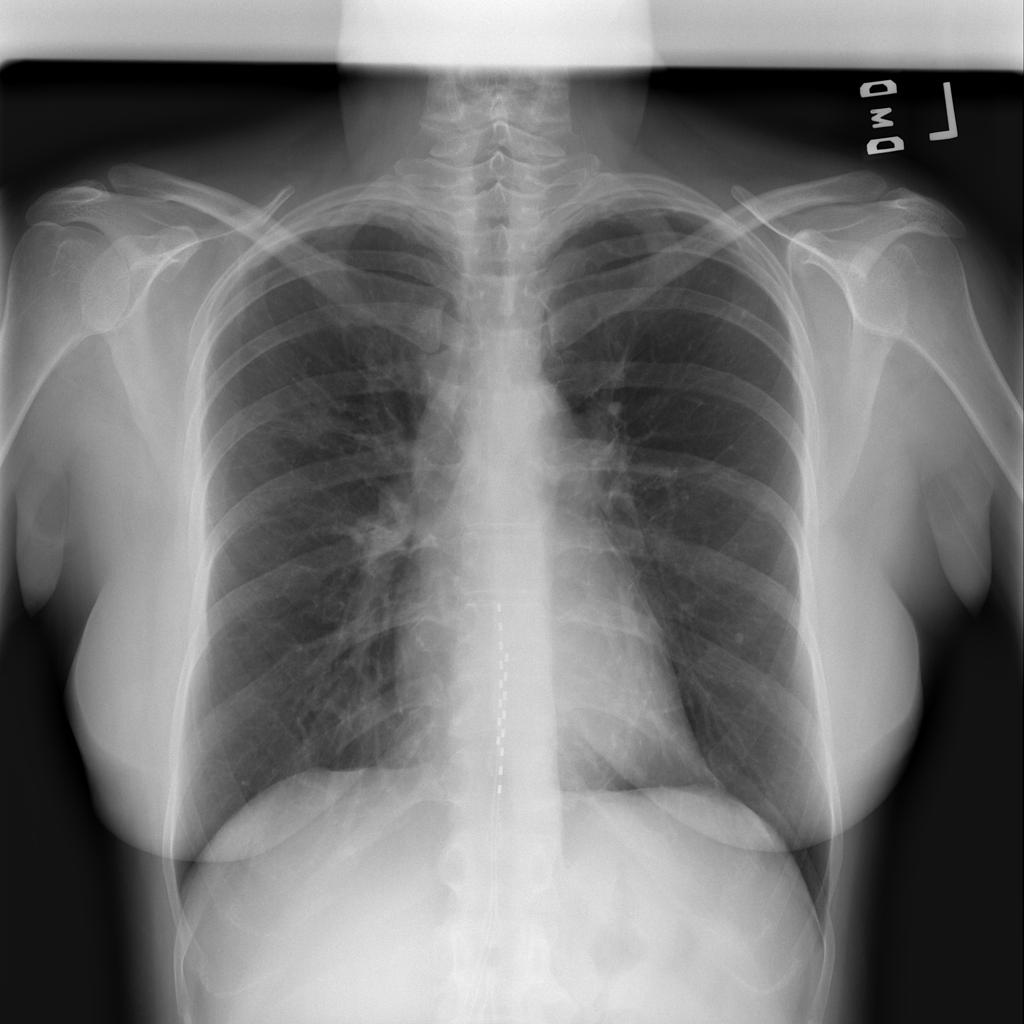nodule: (730, 623, 753, 649)
